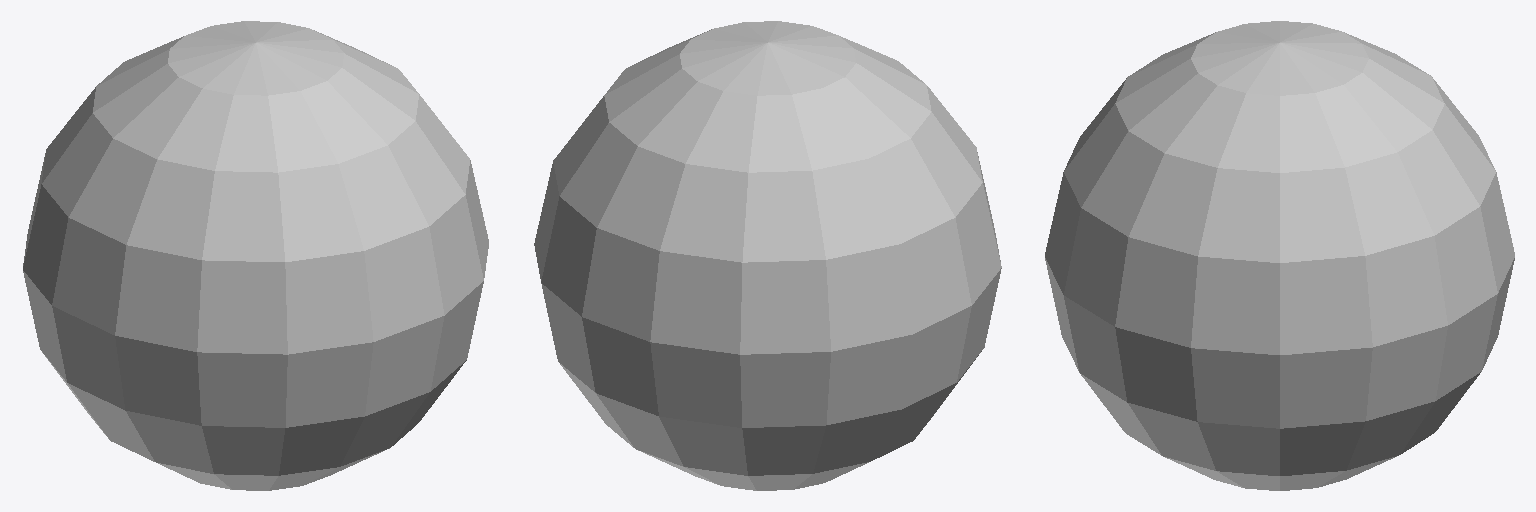
File: design_4.obj
3 views of the same model, side by side, from view 1: azimuth 30°, elevation 25°; view 2: azimuth 150°, elevation 25°; view 3: azimuth 270°, elevation 25° (orthographic).
Bounding box in the file's own units: 1.06 × 1.06 × 1.06.